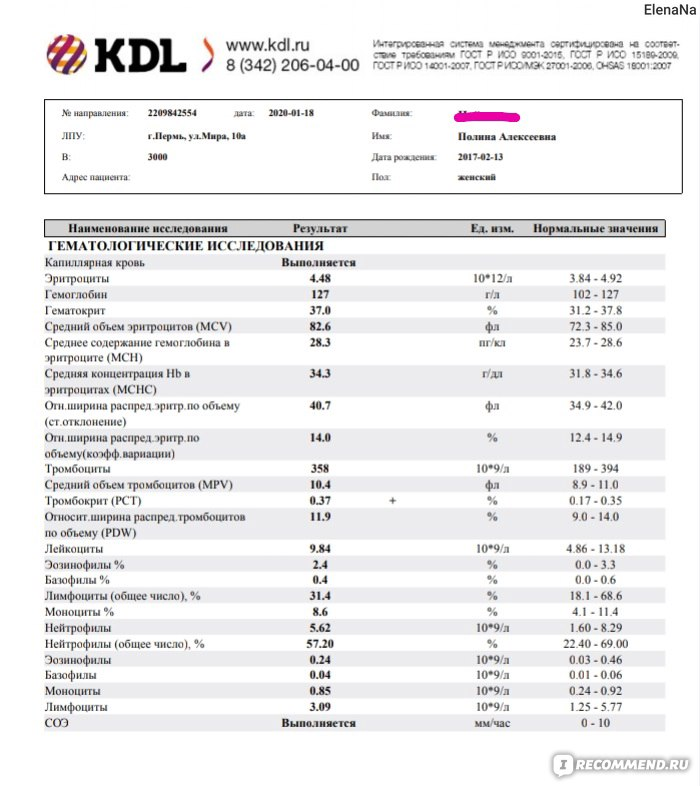column: (43, 256, 246, 729), (281, 256, 356, 729), (562, 256, 628, 729), (473, 256, 511, 729), (68, 223, 228, 235), (533, 223, 658, 235), (293, 223, 348, 235), (470, 223, 514, 235)
